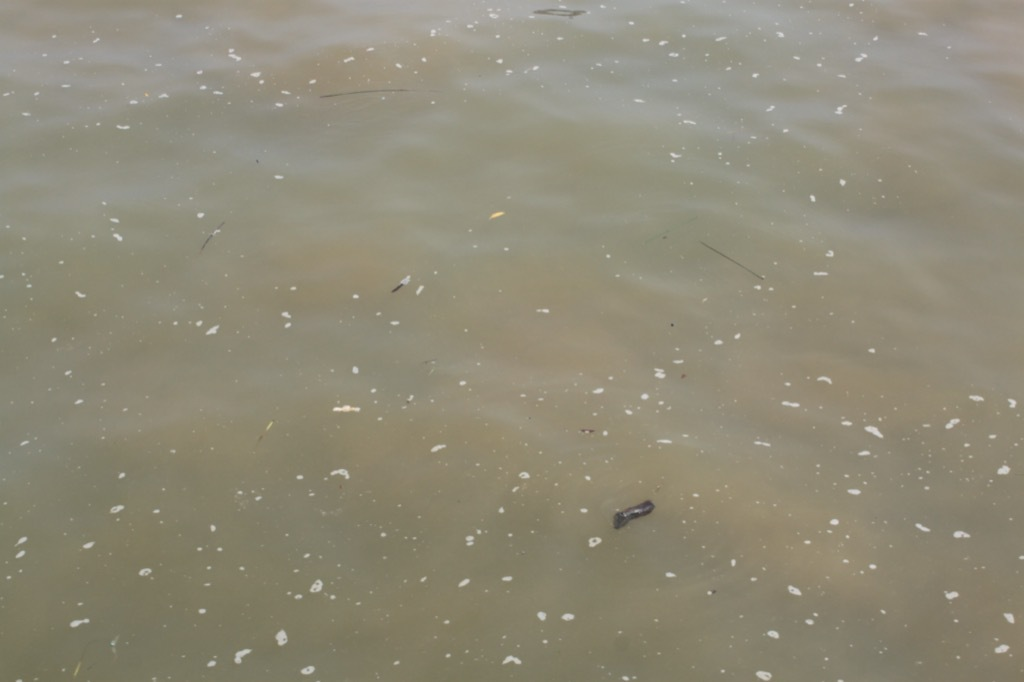organic: (692, 229, 781, 300), (311, 71, 442, 111), (586, 483, 666, 540), (182, 208, 242, 258), (235, 415, 282, 472), (383, 267, 430, 304), (478, 203, 517, 234)
plastic: (321, 394, 373, 426)
